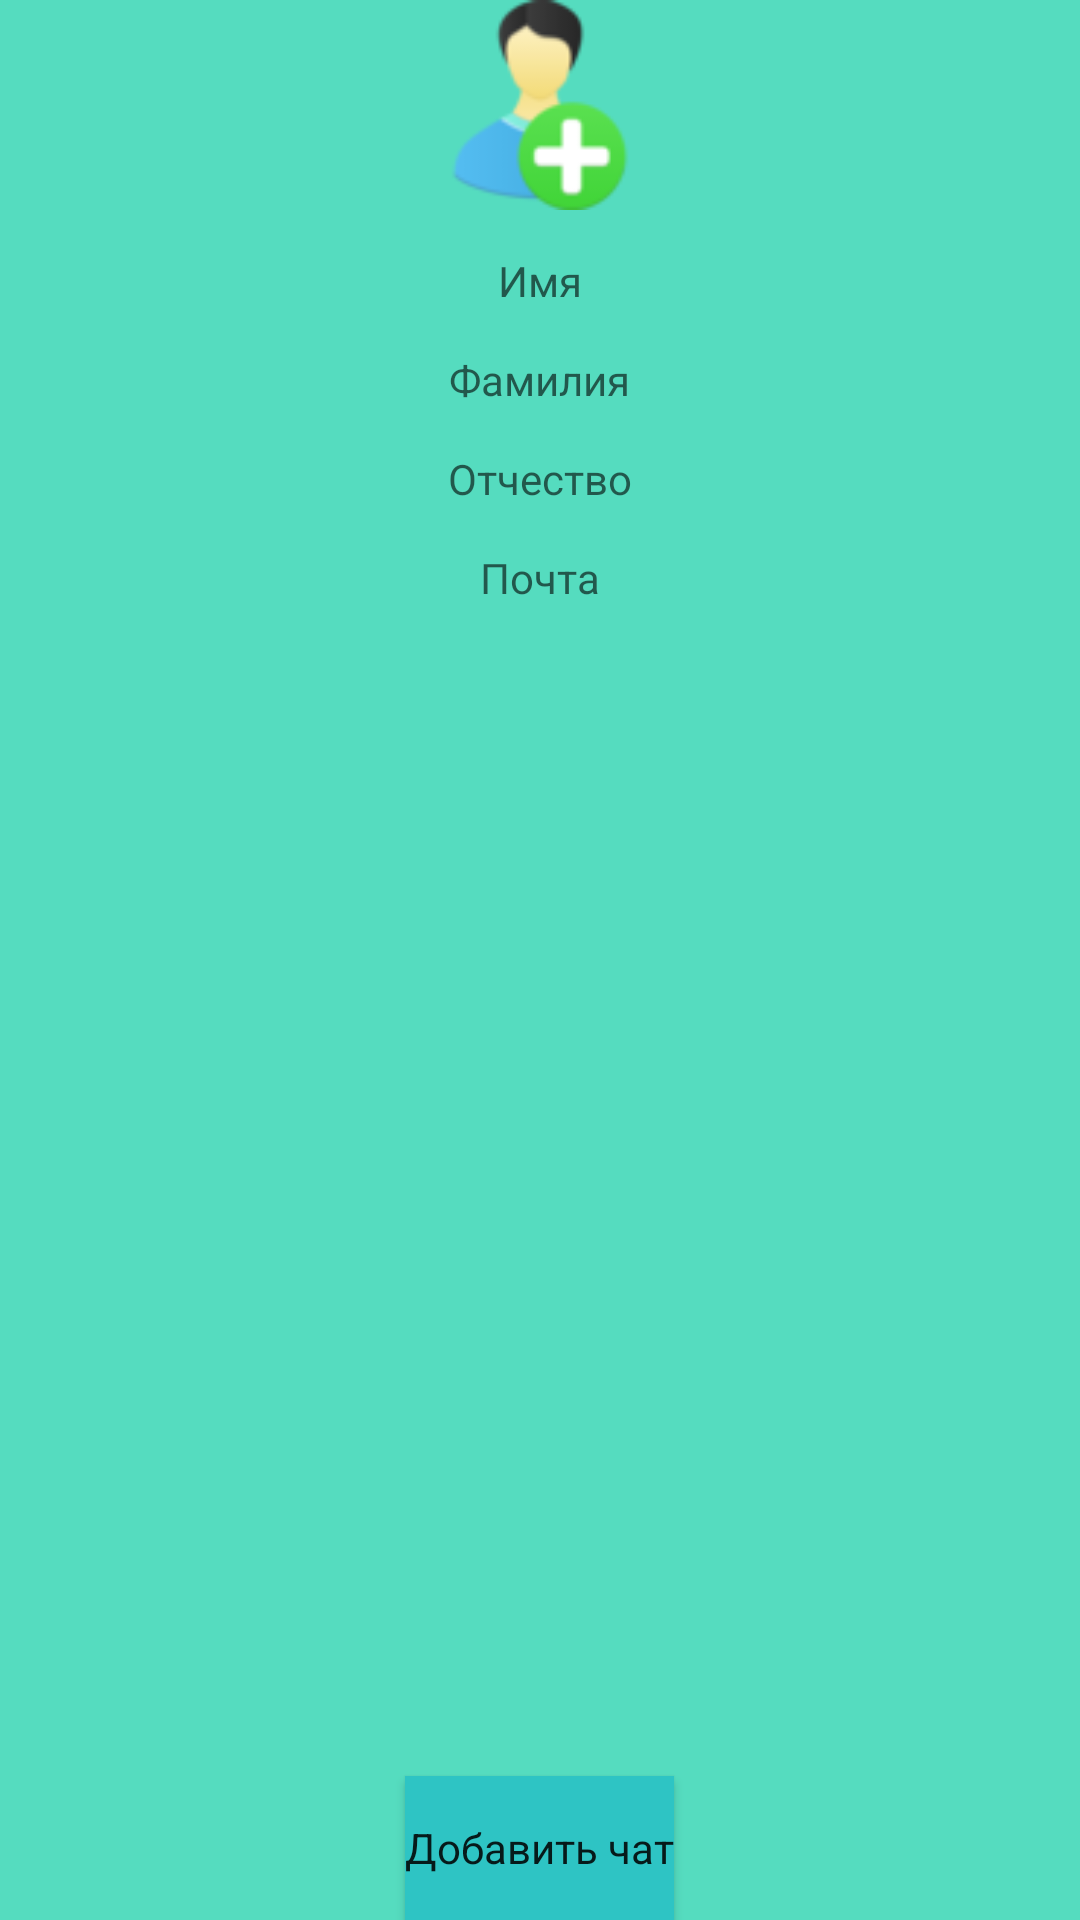

Screen size 1080 x 1920. Icon name, then its box in pixels as (x1, y1, x2, y2):
user: (455, 0, 627, 210)
